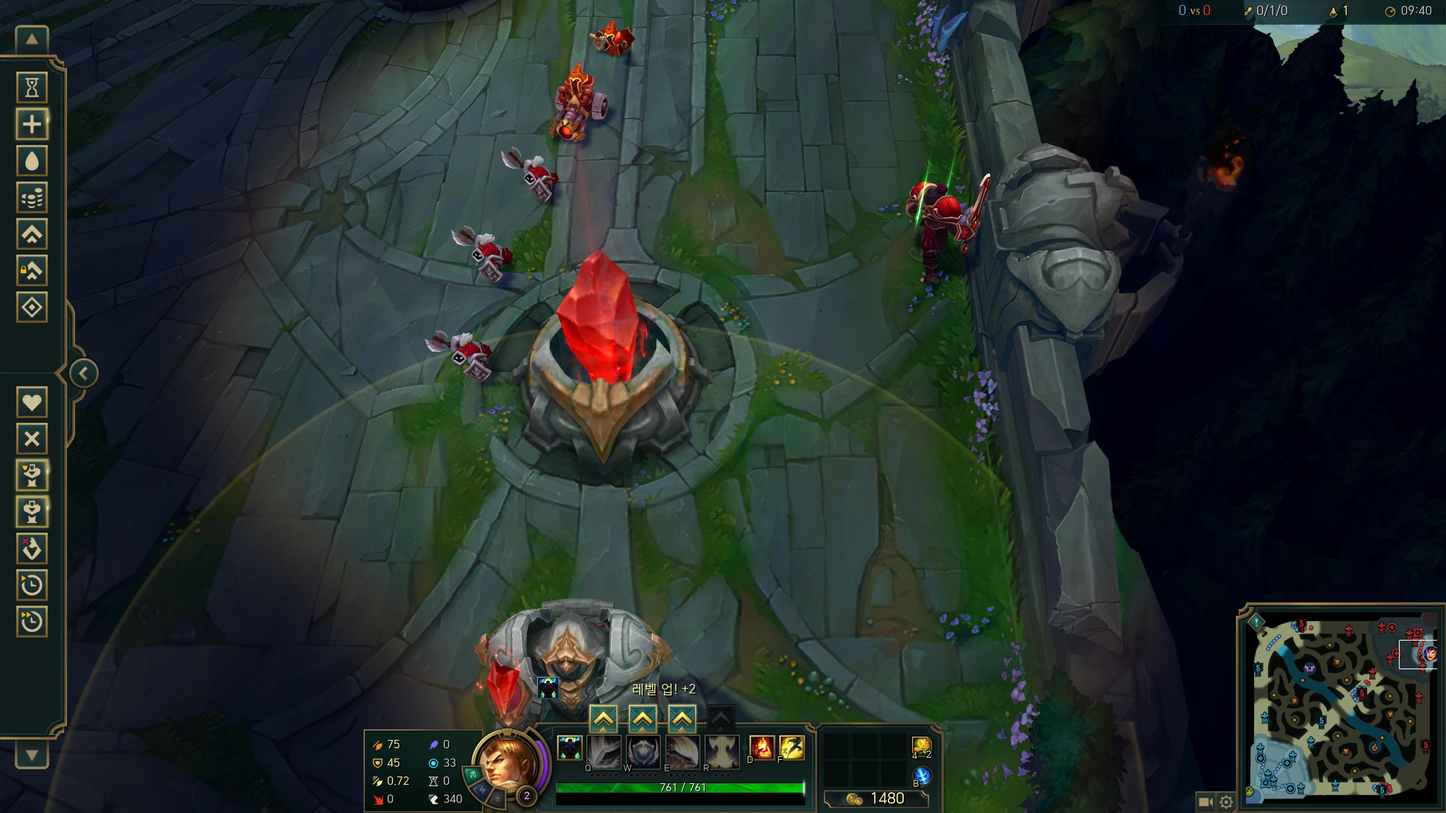enemy-caster-minion: (589, 16, 635, 54)
enemy-melee-minion: (450, 224, 513, 281), (424, 329, 491, 381), (500, 145, 558, 201)
enemy-siege-minion: (549, 60, 608, 139)
